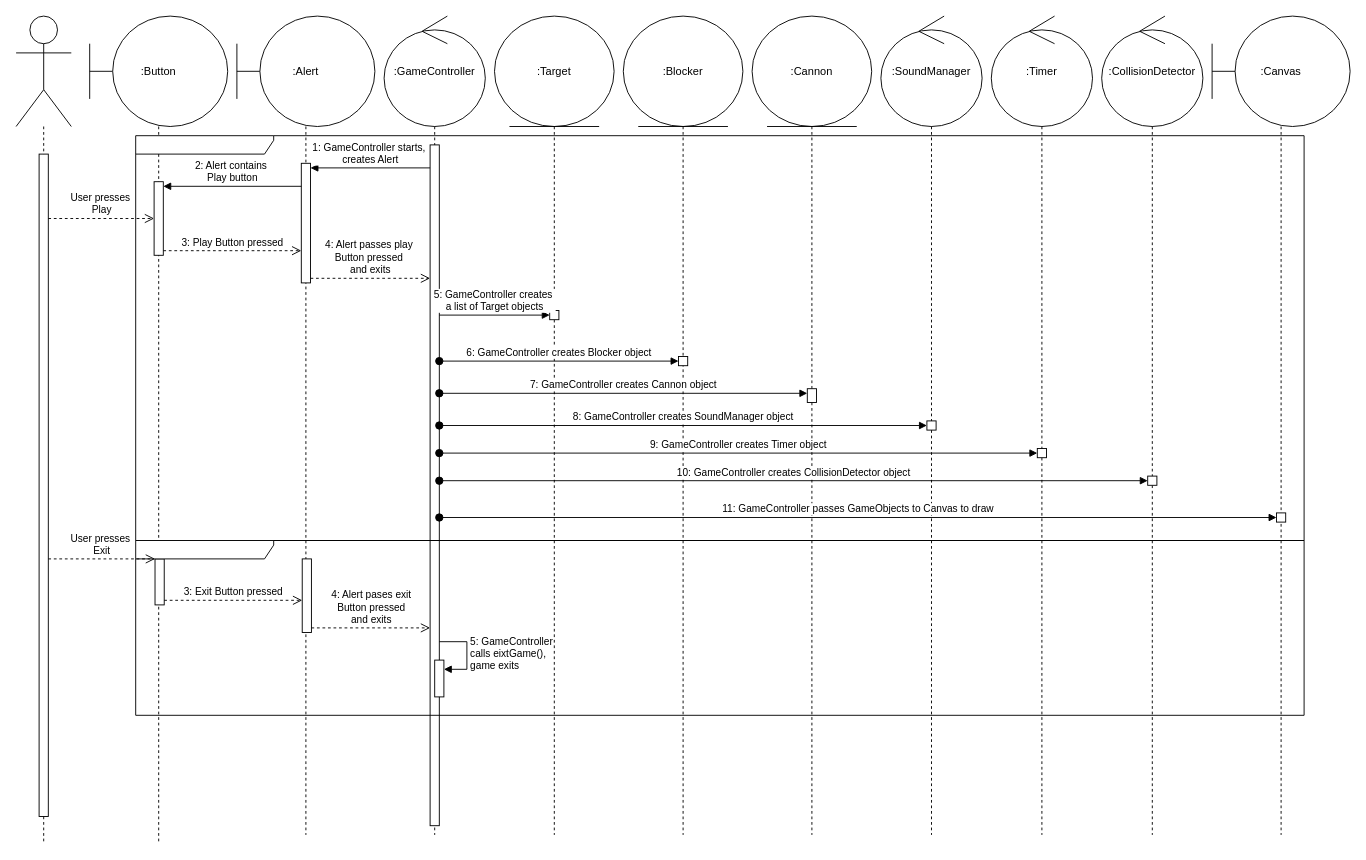
Some shapes in this 1366 by 860 pixel diagram are drawn without their labels. Here are the shapes that lost their labels. From the top down, the box of each, then its label:
(135, 135, 1304, 540): Play Button Pressed
(15, 15, 71, 844): Player
(135, 540, 1304, 715): Alt: Exit Button Pressed
